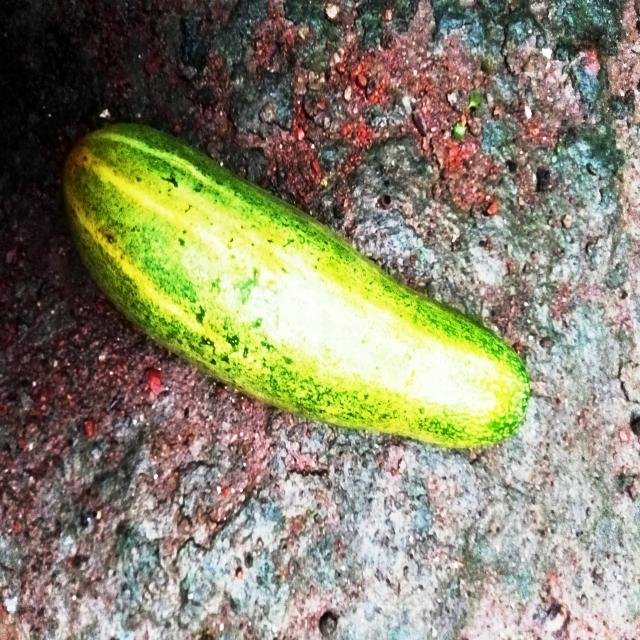Fresh-Cucumber: (58, 112, 532, 453)
